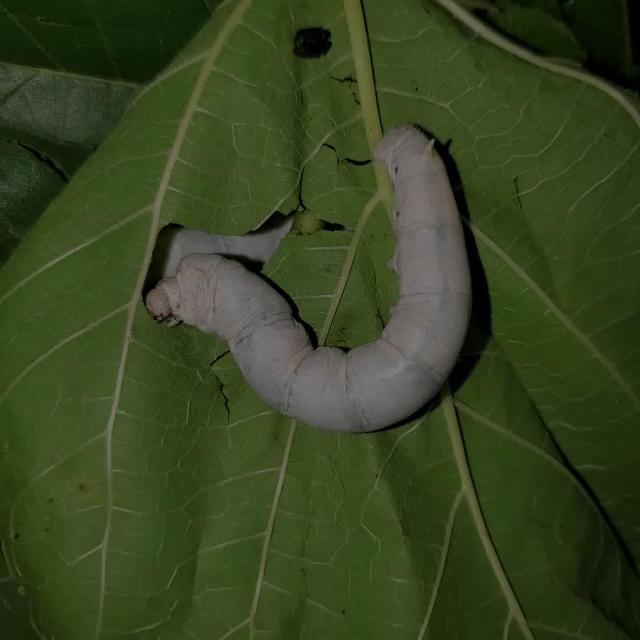Healthy: (110, 107, 522, 454)
